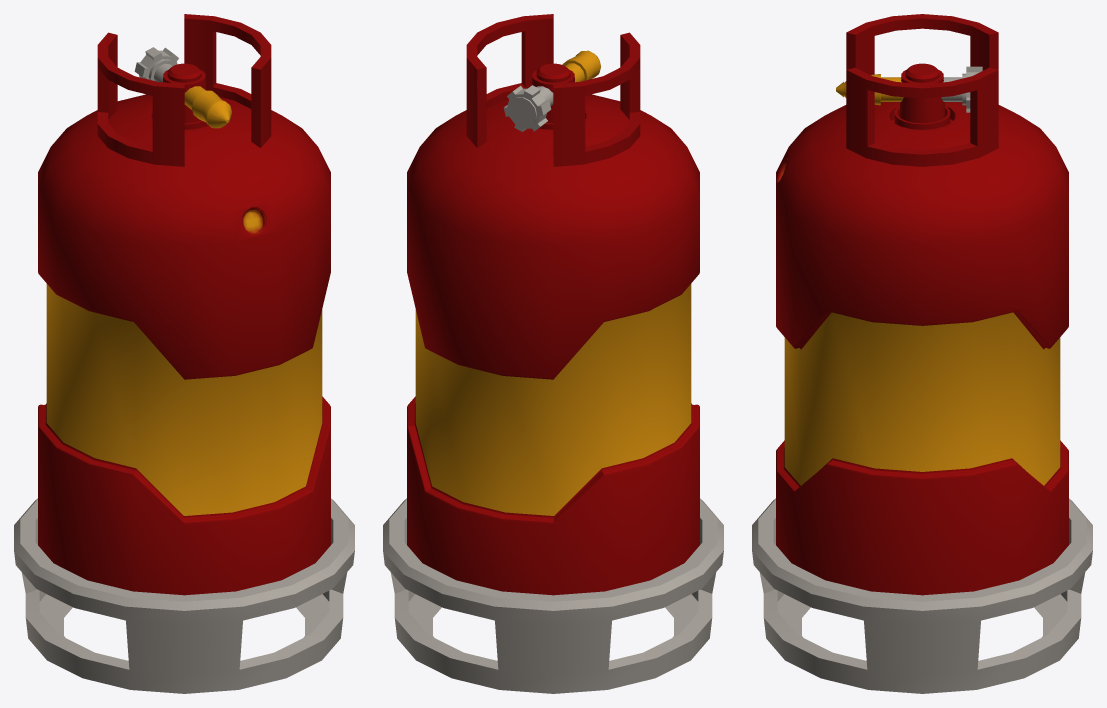
Rendered from Propane Tank.fbx.
The picture shows the model from 3 angles, left to right: view 1: azimuth 30°, elevation 25°; view 2: azimuth 150°, elevation 25°; view 3: azimuth 270°, elevation 25°; orthographic projection.
Parts seen in each view (by area): view 1: Propane Tank; view 2: Propane Tank; view 3: Propane Tank.
Boxes of the visible parts, x1,y1,x2,y2 form: Propane Tank: (14,14,354,693); Propane Tank: (383,14,723,693); Propane Tank: (752,14,1092,693).
Bounding box in the file's own units: 42.99 × 78.87 × 42.34.
